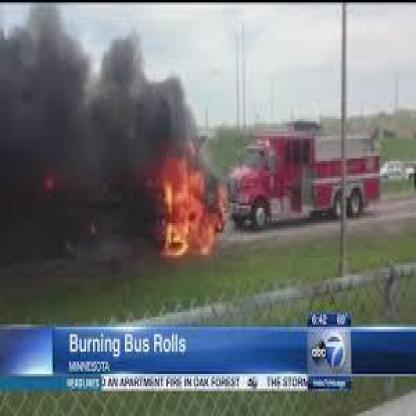fire: (154, 142, 227, 265)
smoke: (0, 0, 158, 253)
